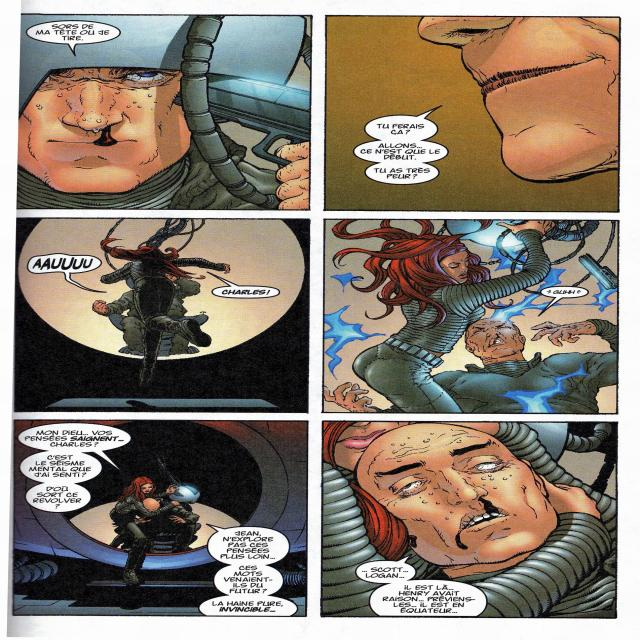comic_panel: (320, 420, 618, 619), (9, 420, 308, 618), (323, 15, 621, 213), (321, 218, 619, 416), (16, 12, 312, 211), (13, 217, 311, 414)
